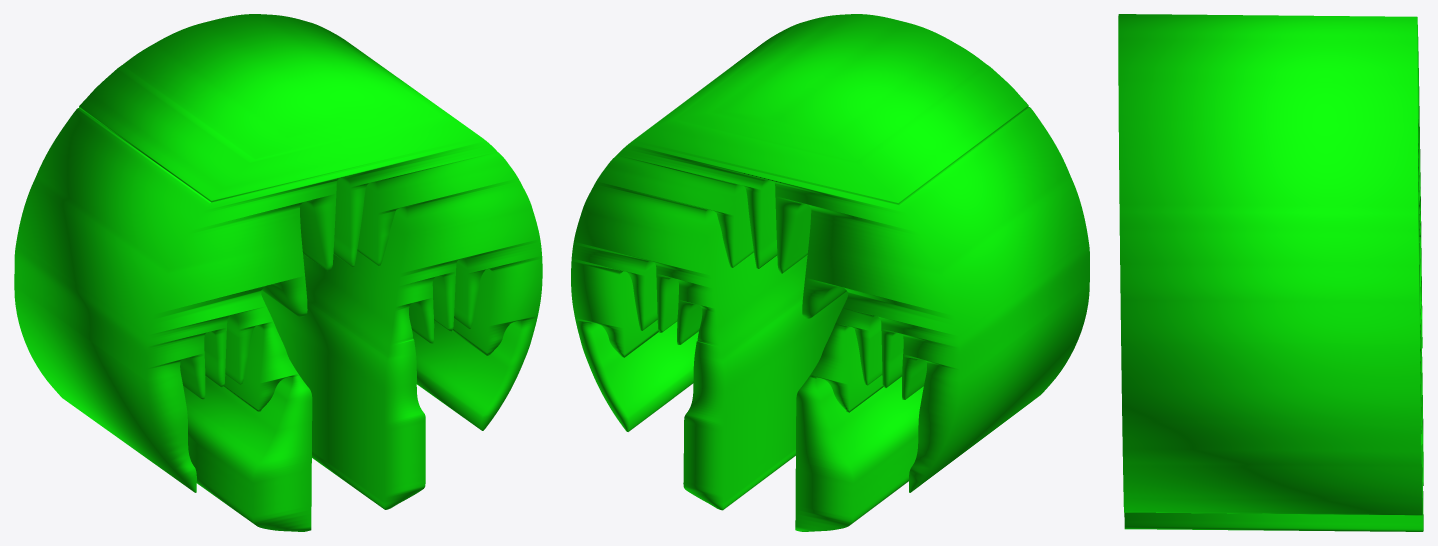
Rendered from volunteer.glb.
The picture shows the model from 3 angles, left to right: view 1: azimuth 30°, elevation 25°; view 2: azimuth 150°, elevation 25°; view 3: azimuth 270°, elevation 25°; orthographic projection. The views are drawn at different scales.
Visible parts, largest first — view 1: Curve.003; view 2: Curve.003; view 3: Curve.003.
Part boxes in pixels (left/top/right/bottom): Curve.003: left=14, top=14, right=542, bottom=531; Curve.003: left=571, top=14, right=1089, bottom=531; Curve.003: left=1118, top=14, right=1423, bottom=531.
Bounding box in the file's own units: 2.09 × 2.08 × 1.24.
